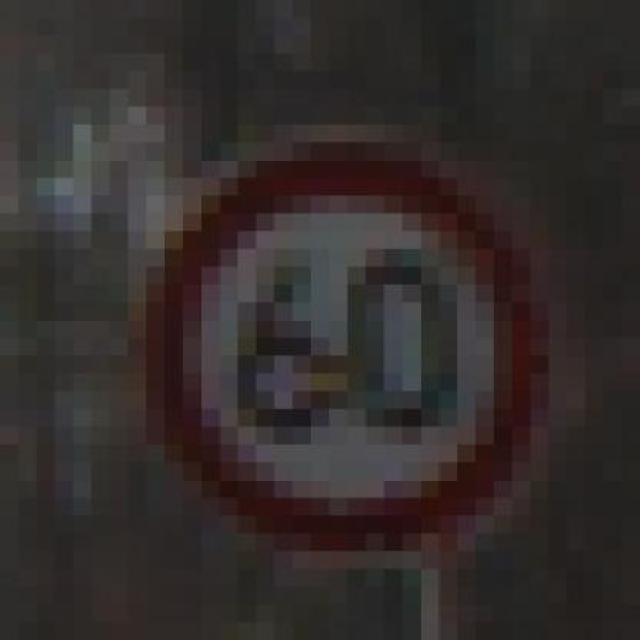forb_speed_over_60: (152, 149, 540, 543)
